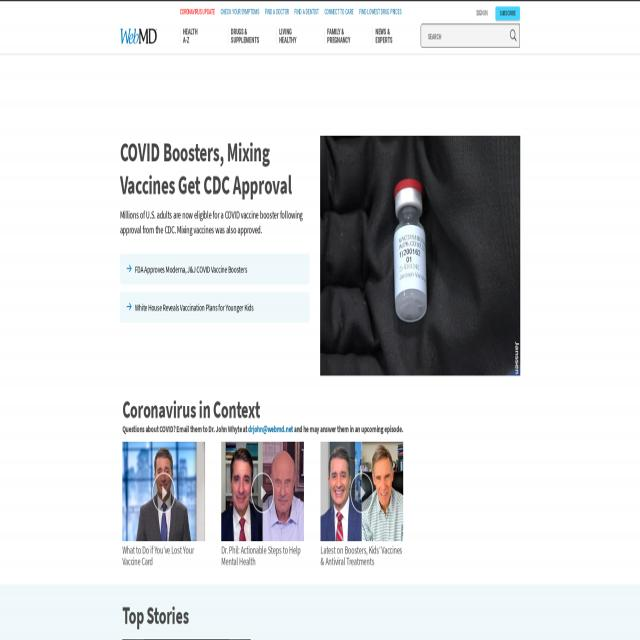button: (320, 135, 520, 376), (122, 442, 205, 541), (222, 442, 304, 541), (321, 442, 403, 541), (120, 29, 157, 44), (496, 6, 520, 21), (510, 26, 516, 44)
field: (420, 24, 520, 47)
